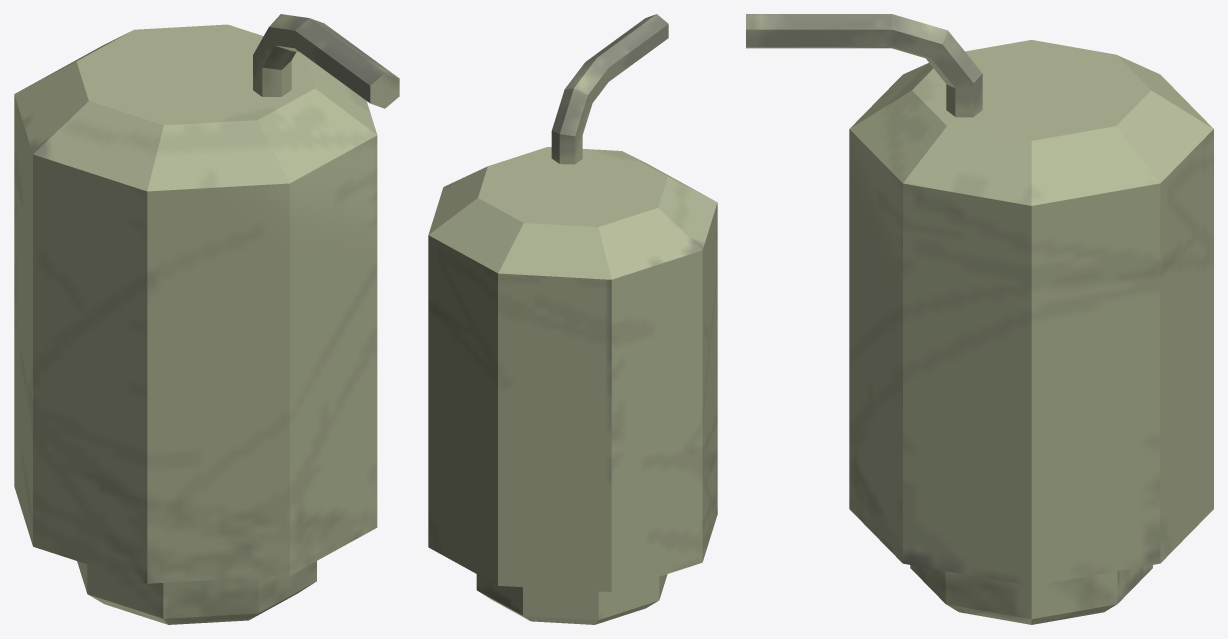
File: Boiler.fbx
The picture shows the model from 3 angles, left to right: view 1: azimuth 30°, elevation 25°; view 2: azimuth 150°, elevation 25°; view 3: azimuth 270°, elevation 25°; orthographic projection. The views are drawn at different scales.
Parts seen in each view (by area): view 1: Boiler; view 2: Boiler; view 3: Boiler.
Boxes of the visible parts, x1,y1,x2,y2 form: Boiler: (14, 14, 399, 624); Boiler: (428, 14, 717, 624); Boiler: (746, 14, 1213, 624).
Bounding box in the file's own units: 3.55 × 6.32 × 4.56.
